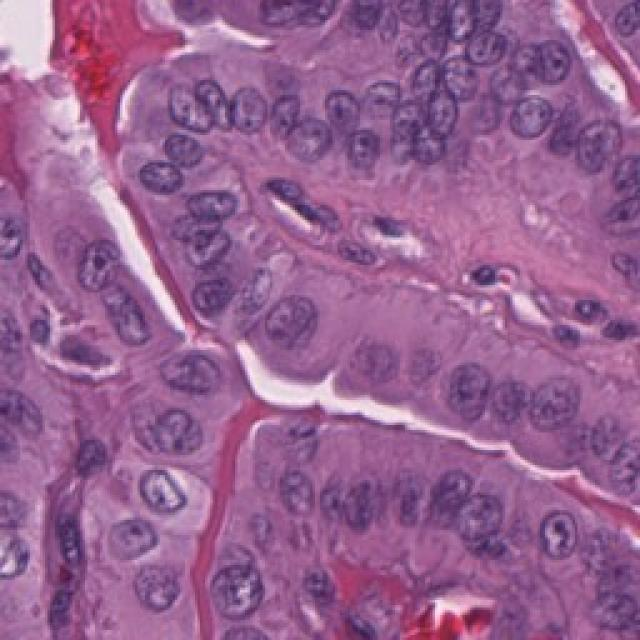abnormal: (105, 456, 215, 541), (48, 203, 133, 306), (81, 491, 191, 567), (256, 275, 333, 381), (139, 334, 242, 410), (428, 322, 489, 437), (124, 398, 224, 467), (89, 278, 173, 355), (533, 351, 589, 465), (148, 72, 229, 145), (112, 554, 204, 618), (158, 219, 259, 275), (169, 258, 242, 330), (426, 451, 472, 557), (281, 94, 339, 178), (572, 113, 630, 189), (178, 174, 255, 230), (498, 89, 569, 149), (117, 146, 189, 202), (542, 501, 591, 576)
